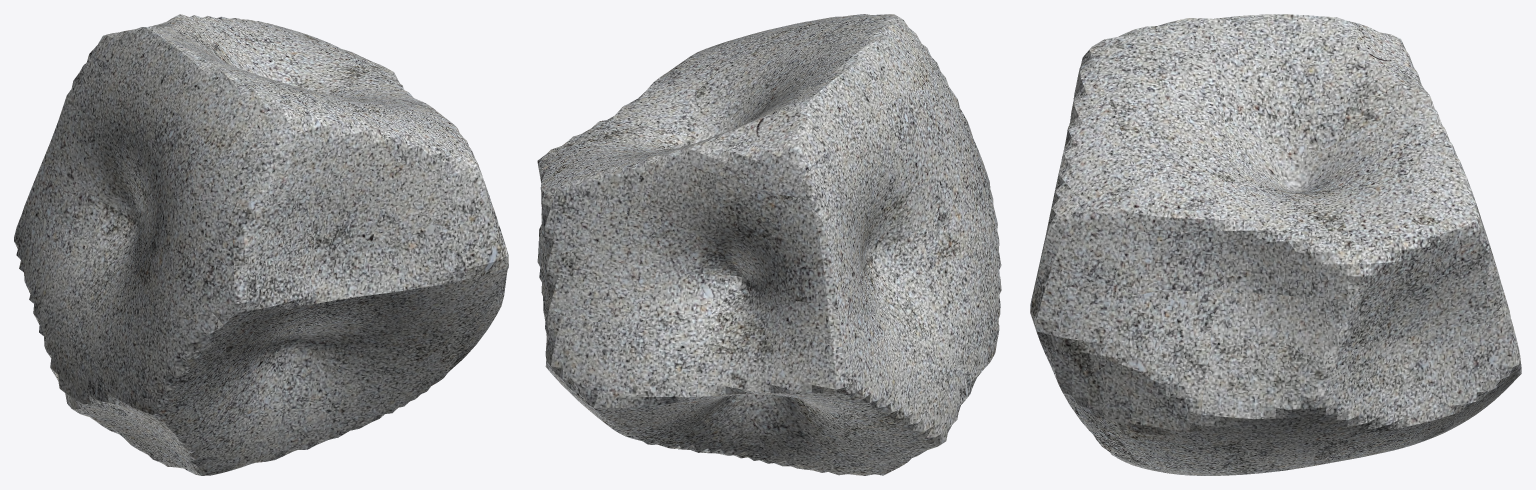
The model's file is Asteroid2New.fbx.
3 views of the same model, side by side, from view 1: azimuth 30°, elevation 25°; view 2: azimuth 150°, elevation 25°; view 3: azimuth 270°, elevation 25° (orthographic). The views are drawn at different scales.
Parts seen in each view (by area): view 1: Asteroid2; view 2: Asteroid2; view 3: Asteroid2.
Boxes of the visible parts, bbox=[...] form: Asteroid2: bbox=[14, 14, 508, 475]; Asteroid2: bbox=[537, 14, 1001, 475]; Asteroid2: bbox=[1030, 14, 1521, 475].
Bounding box in the file's own units: 136 × 135 × 142.
